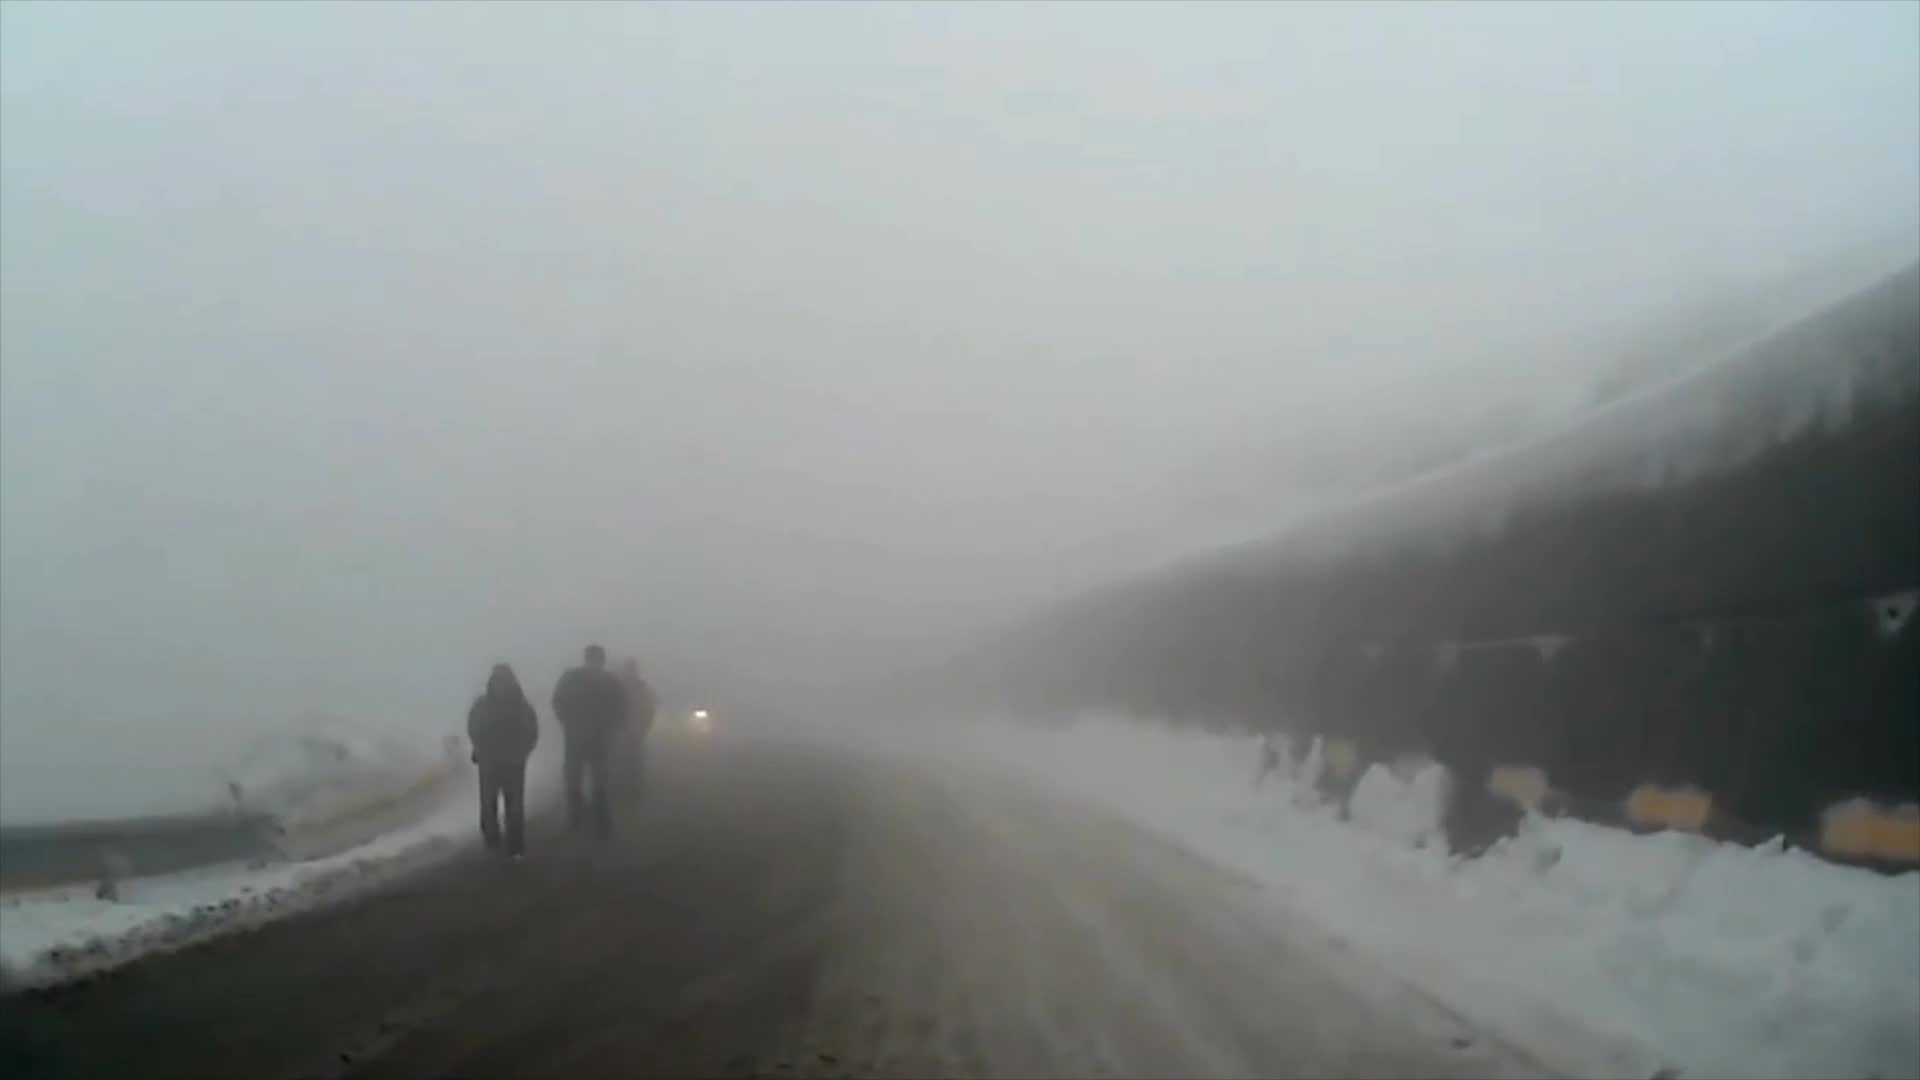pedestrian: (461, 661, 545, 869), (552, 642, 626, 837), (604, 655, 660, 820)
